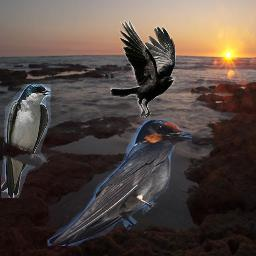Crow: (110, 20, 177, 121)
Swallow: (47, 119, 192, 246), (1, 84, 51, 198)
